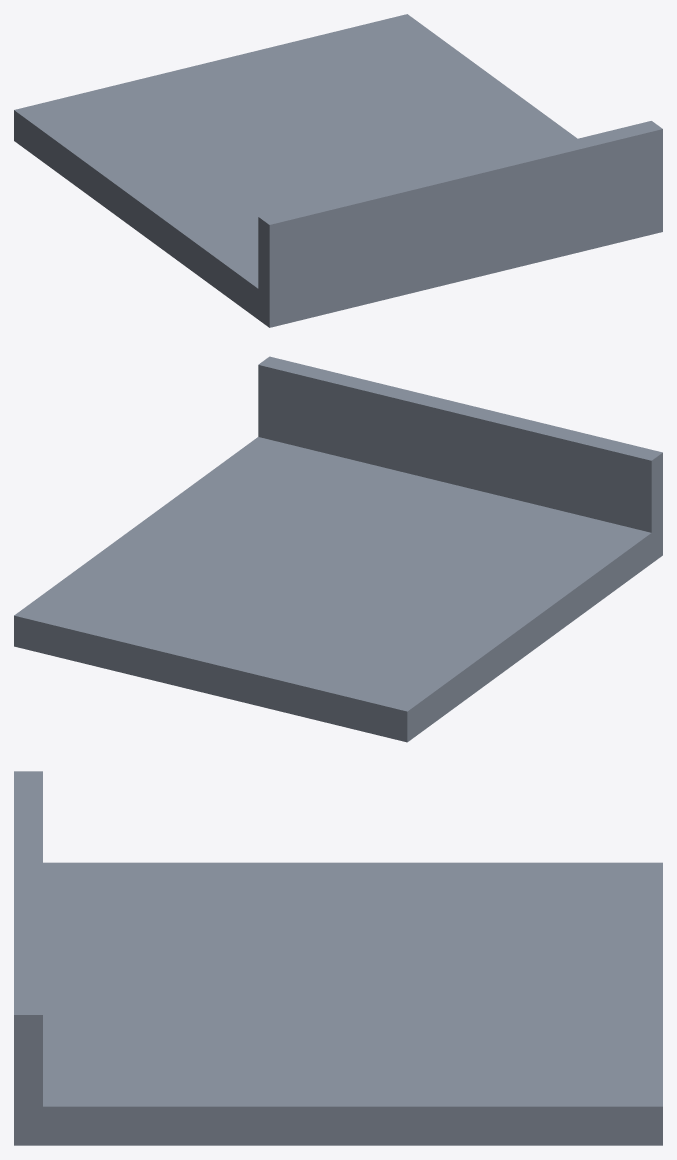
File: step-1-preview-2.glb
3 renders of one model, top to bottom at view 1: azimuth 30°, elevation 25°; view 2: azimuth 150°, elevation 25°; view 3: azimuth 270°, elevation 25°, orthographic. The views are drawn at different scales.
Parts seen in each view (by area): view 1: preview_1, preview_6, preview_4, preview_2; view 2: preview_1, preview_0, preview_5, preview_4, preview_2; view 3: preview_1, preview_3, preview_2.
Part boxes in pixels (x1,y1,x2,y2): preview_1: [14, 14, 577, 288]; preview_6: [269, 129, 662, 327]; preview_4: [14, 110, 269, 327]; preview_2: [258, 121, 662, 224]; preview_1: [14, 437, 650, 711]; preview_0: [258, 365, 651, 532]; preview_5: [14, 615, 407, 742]; preview_4: [407, 453, 662, 742]; preview_2: [258, 356, 662, 460]; preview_1: [43, 862, 662, 1106]; preview_3: [14, 1015, 662, 1145]; preview_2: [14, 771, 42, 1014].
Bounding box in the file's own units: 0.08 × 0.02 × 0.09.
